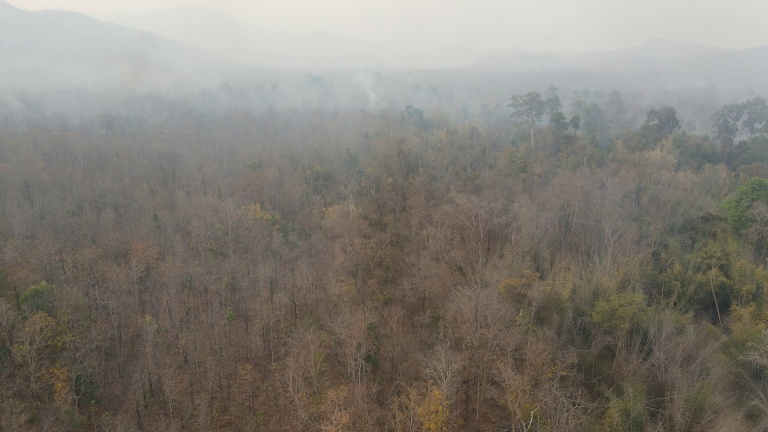fire: (1, 122, 224, 140)
smoke: (1, 1, 768, 153), (348, 62, 390, 119)
